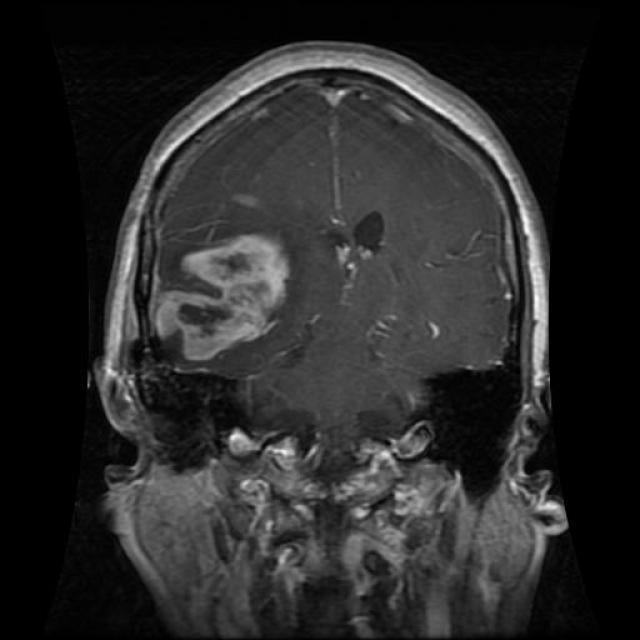glioma: (150, 231, 296, 360)
